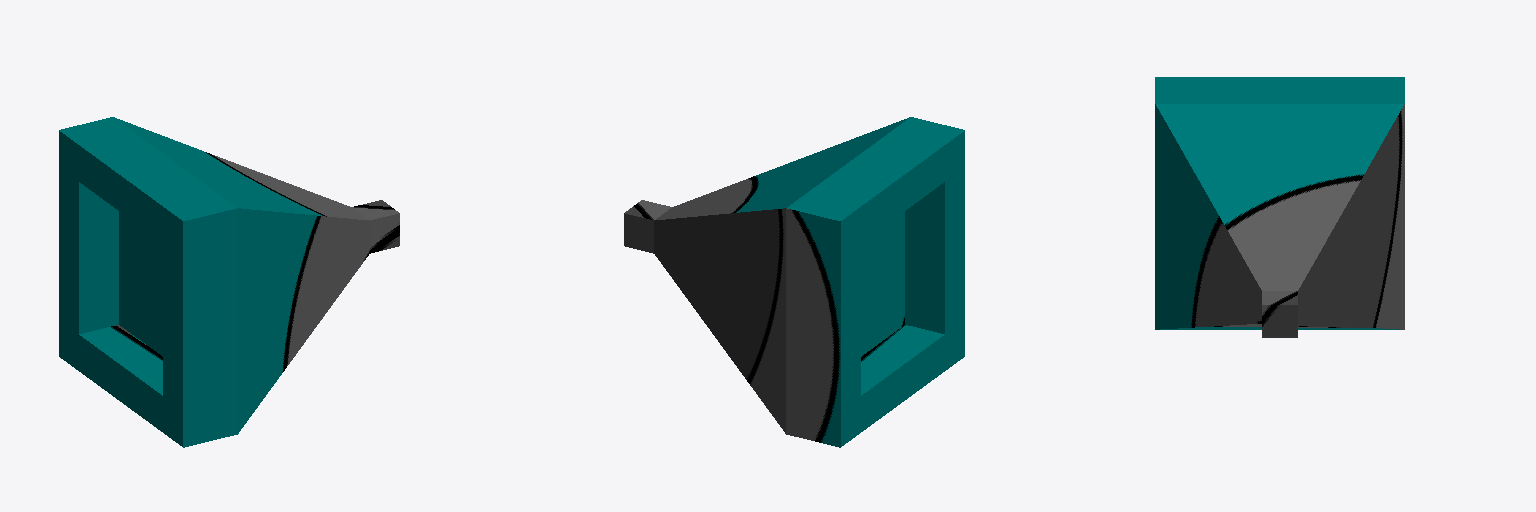
3 renders of one model, left to right at view 1: azimuth 30°, elevation 25°; view 2: azimuth 150°, elevation 25°; view 3: azimuth 270°, elevation 25°, orthographic.
Visible parts, largest first — view 1: Cube_Cube.001; view 2: Cube_Cube.001; view 3: Cube_Cube.001.
Part boxes in pixels (bbox=[...]): Cube_Cube.001: bbox=[59, 117, 399, 447]; Cube_Cube.001: bbox=[624, 117, 964, 447]; Cube_Cube.001: bbox=[1155, 77, 1404, 337].
Bounding box in the file's own units: 2.91 × 2.33 × 2.33.
1 materials, 1 textured.